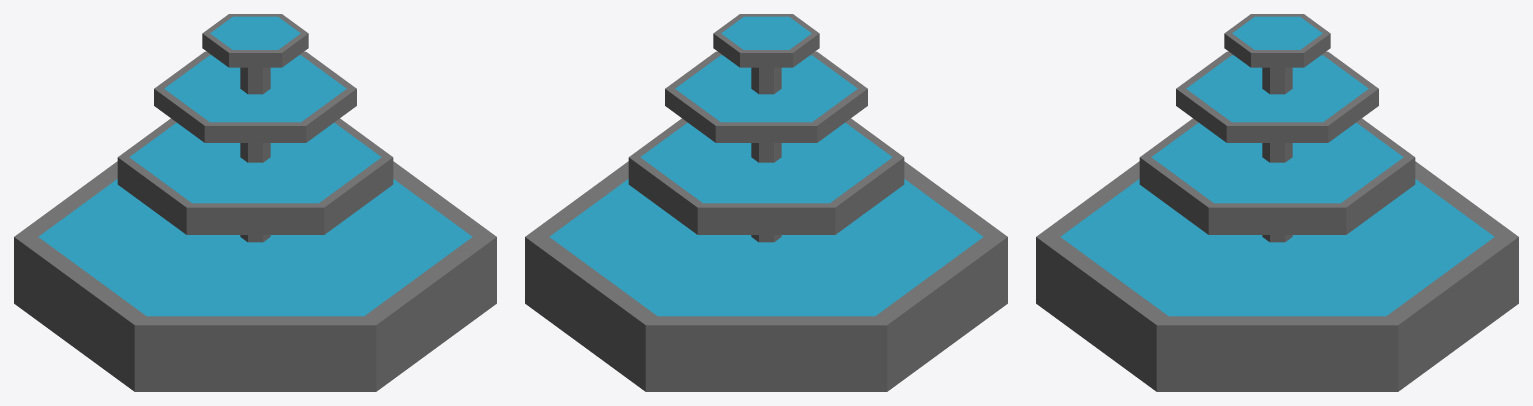
File: Fountain03.fbx
3 views of the same model, side by side, from view 1: azimuth 30°, elevation 25°; view 2: azimuth 150°, elevation 25°; view 3: azimuth 270°, elevation 25° (orthographic).
Parts seen in each view (by area): view 1: Fountain03; view 2: Fountain03; view 3: Fountain03.
Boxes of the visible parts, box(x1,y1,x2,y2) form: Fountain03: box(14, 14, 496, 391); Fountain03: box(525, 14, 1007, 391); Fountain03: box(1036, 14, 1518, 391).
Bounding box in the file's own units: 166 × 119 × 192.
